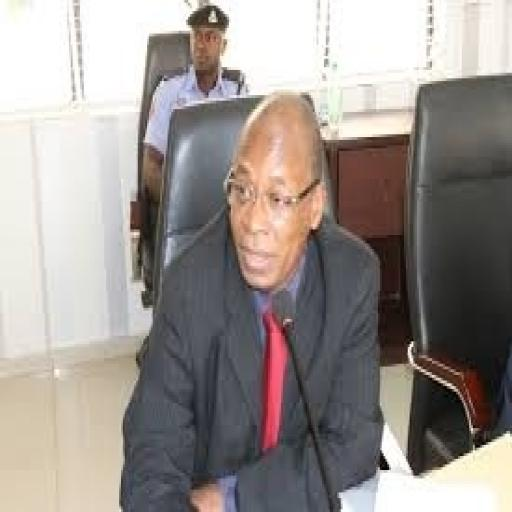sitting: (118, 87, 384, 509)
